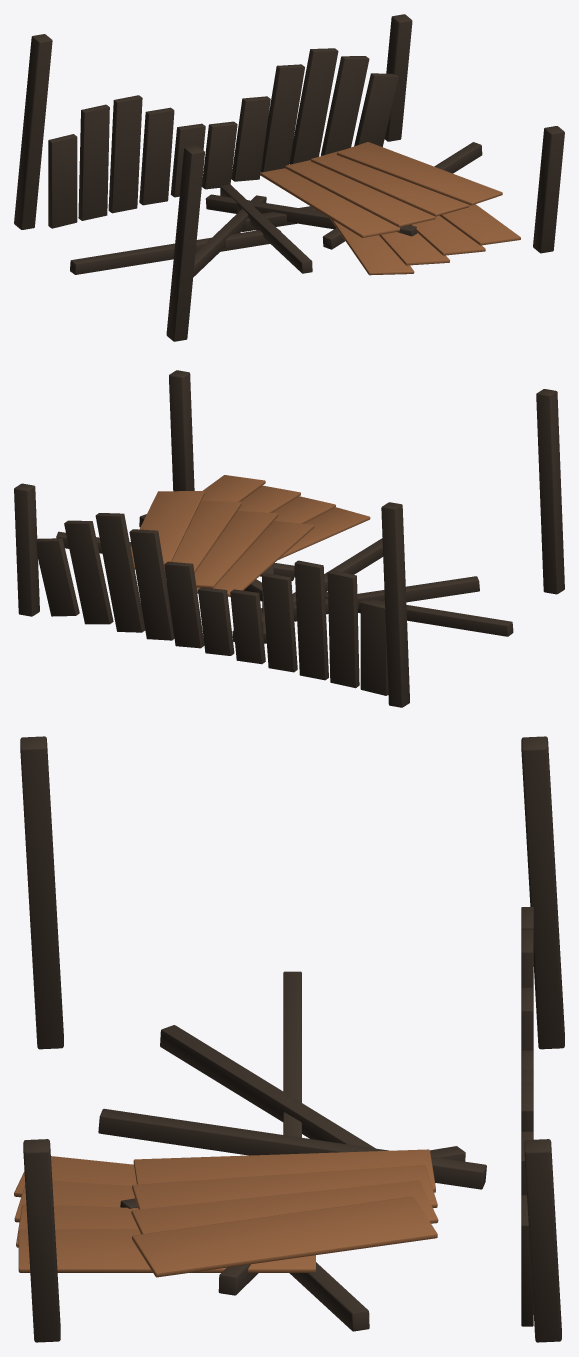
File: BurntShelter08.fbx
3 renders of one model, top to bottom at view 1: azimuth 30°, elevation 25°; view 2: azimuth 150°, elevation 25°; view 3: azimuth 270°, elevation 25°, orthographic. The views are drawn at different scales.
Visible parts, largest first — view 1: BurntShelter08; view 2: BurntShelter08; view 3: BurntShelter08.
Boxes of the visible parts, bbox=[...] form: BurntShelter08: bbox=[14, 14, 564, 341]; BurntShelter08: bbox=[14, 370, 564, 707]; BurntShelter08: bbox=[14, 736, 564, 1342].
Bounding box in the file's own units: 519 × 352 × 223.
